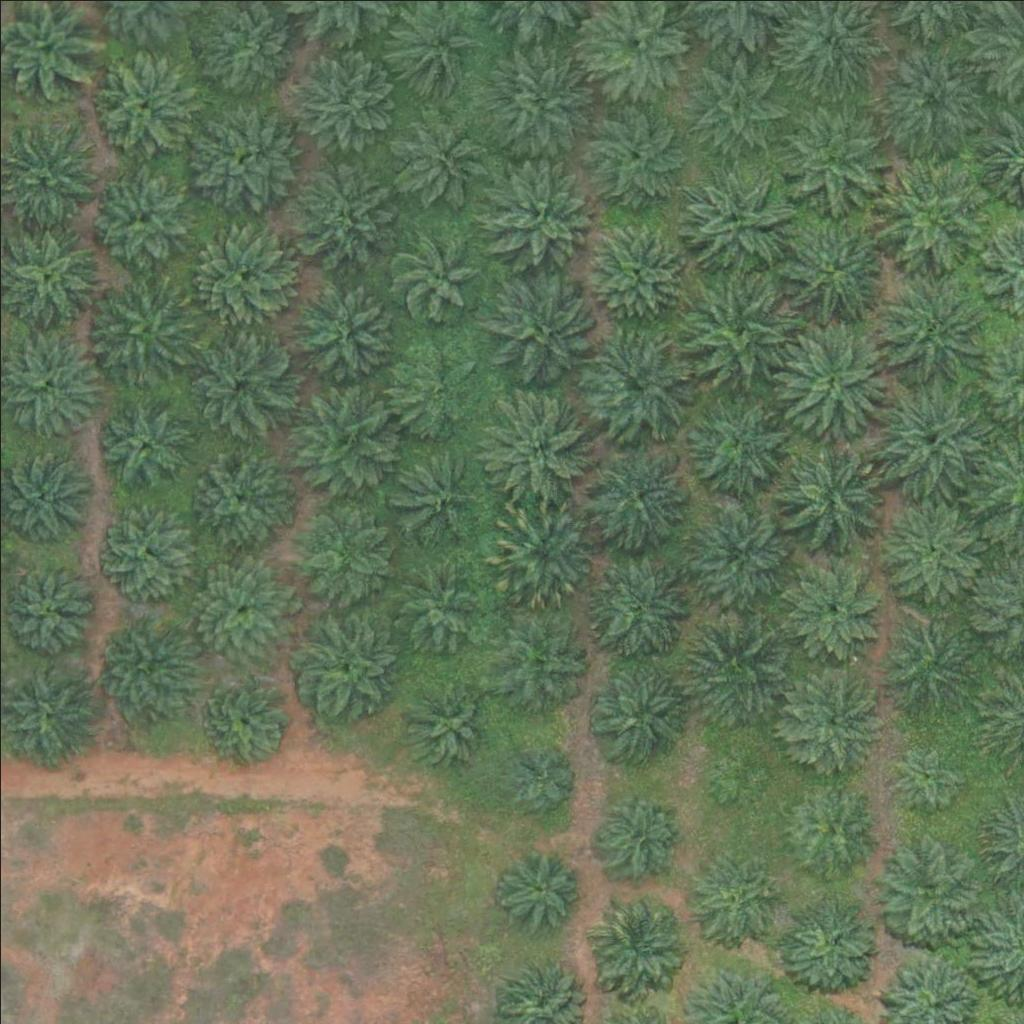Kelapa_Sawit: (872, 274, 985, 388), (774, 98, 887, 212), (183, 550, 296, 664), (179, 438, 292, 552), (82, 274, 195, 388), (681, 43, 794, 157), (485, 495, 598, 608), (582, 654, 695, 767), (871, 382, 984, 495), (777, 321, 890, 434), (775, 212, 888, 325), (481, 391, 594, 504), (486, 274, 599, 387), (482, 152, 595, 265), (284, 44, 397, 157), (872, 149, 984, 263), (582, 546, 694, 659), (681, 617, 793, 730), (683, 495, 795, 608), (876, 41, 988, 154), (775, 441, 887, 554), (685, 388, 797, 501), (686, 272, 798, 385), (678, 158, 790, 271), (583, 325, 695, 438), (579, 101, 691, 214), (480, 44, 592, 157), (282, 381, 394, 494), (284, 273, 396, 386), (180, 324, 292, 437), (181, 100, 293, 213), (490, 610, 590, 711), (679, 847, 779, 948), (781, 898, 881, 999), (777, 779, 877, 880), (785, 671, 885, 772), (785, 560, 885, 661), (880, 841, 980, 942), (878, 615, 978, 716), (880, 499, 980, 600), (589, 445, 689, 546), (586, 222, 686, 323), (288, 161, 388, 262), (190, 225, 290, 326), (93, 611, 193, 712), (88, 168, 188, 269), (95, 53, 195, 154), (589, 893, 689, 993), (297, 612, 397, 712), (284, 502, 384, 602), (93, 503, 193, 603), (90, 392, 190, 492), (497, 841, 585, 929), (402, 679, 490, 767), (391, 449, 479, 537), (387, 559, 474, 647), (596, 789, 683, 877), (388, 345, 475, 433), (393, 231, 480, 319), (392, 115, 479, 203), (202, 676, 289, 764), (892, 735, 967, 810), (509, 746, 572, 809), (708, 743, 770, 806)
